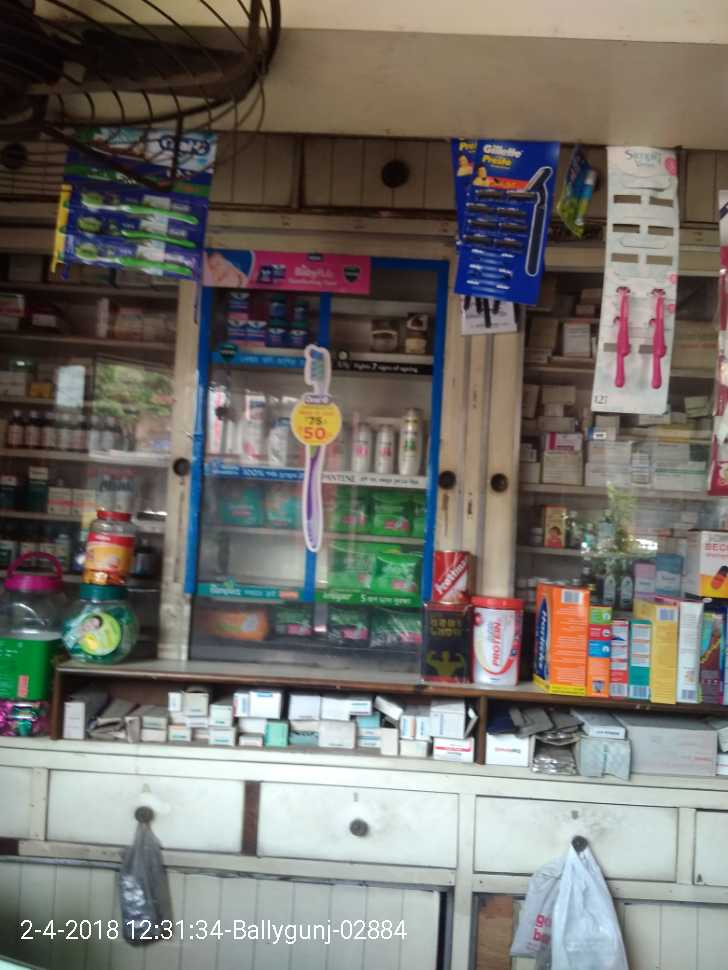oralcare: (60, 124, 223, 280)
vicks: (230, 288, 309, 348)
